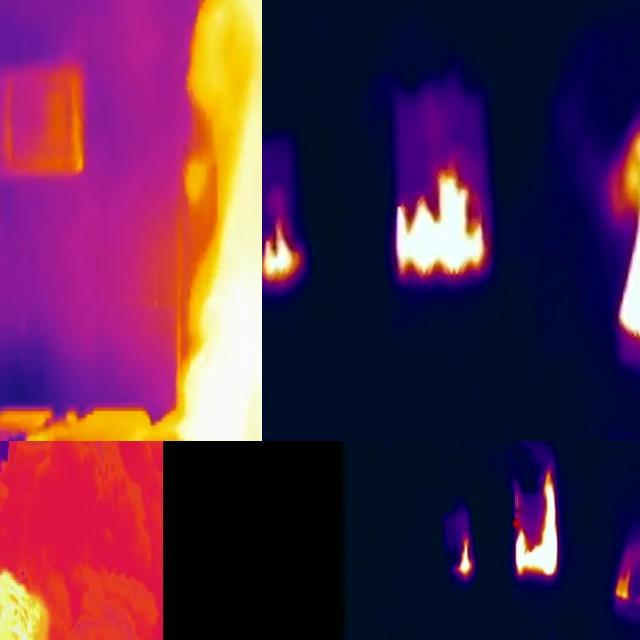fire: (177, 1, 263, 442), (396, 165, 490, 285), (607, 116, 640, 350), (1, 558, 64, 640), (514, 468, 560, 580), (1, 562, 56, 640), (263, 218, 302, 292), (455, 535, 477, 579), (614, 566, 636, 606)
